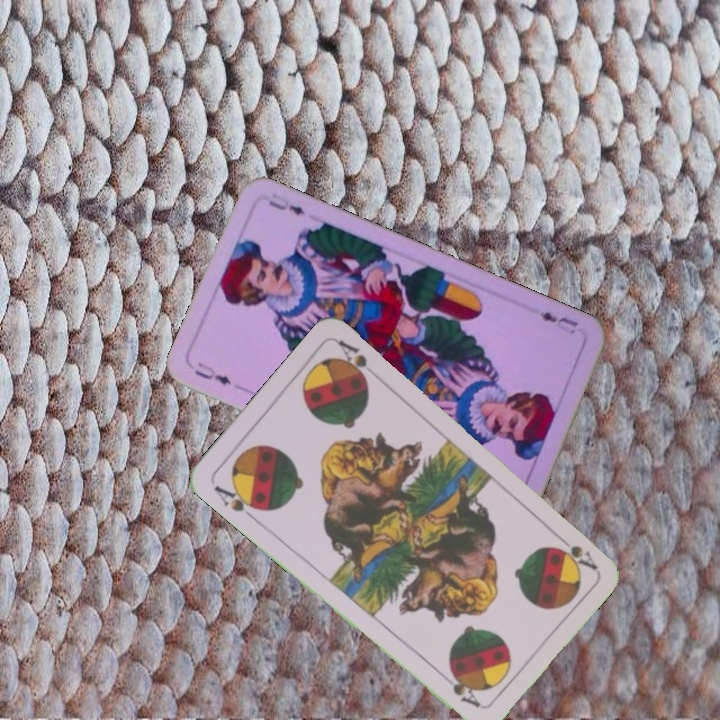EU: (191, 357, 234, 388), (535, 307, 581, 330)
SA: (209, 479, 265, 523), (550, 529, 599, 572)
